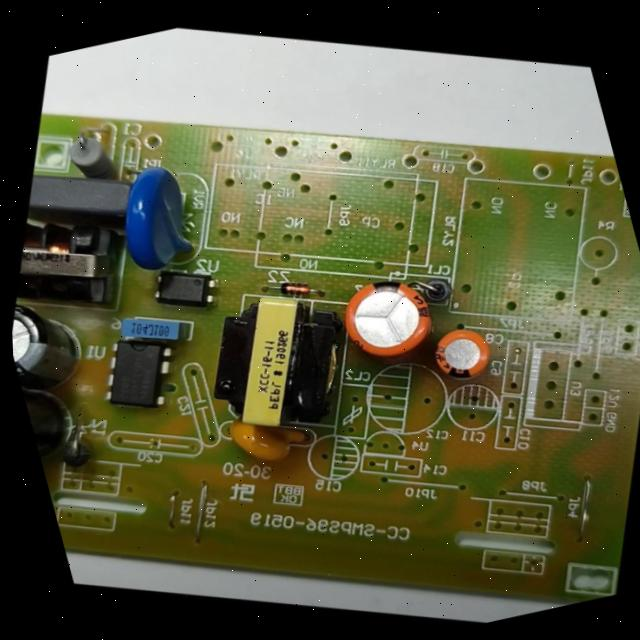Cap1: (315, 251, 459, 380)
Cap2: (415, 311, 507, 395)
Cap3: (11, 286, 108, 399)
Cap4: (20, 369, 94, 476)
MOSFET: (82, 321, 191, 424)
Mov: (88, 145, 232, 292)
Resistor: (52, 117, 134, 190)
Transformer: (172, 260, 376, 457), (7, 193, 146, 328)
